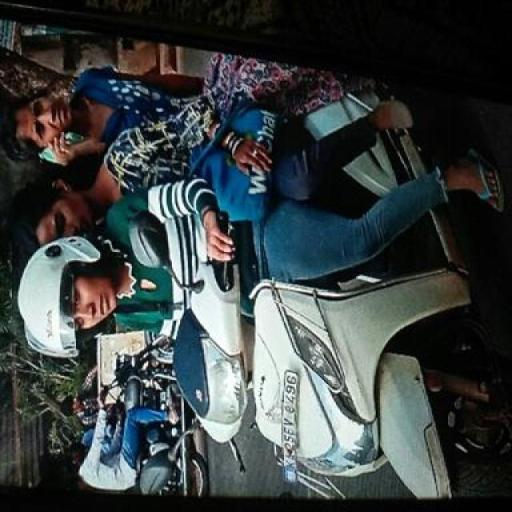tripple riding: (0, 54, 356, 360)
